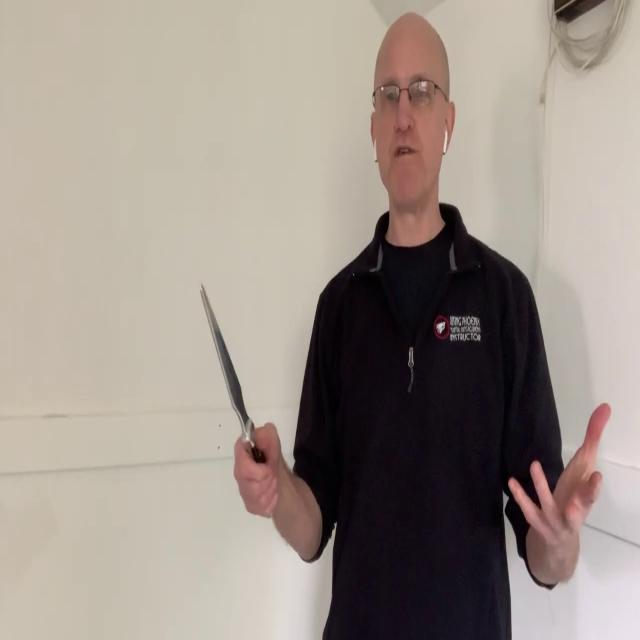Knife_Handle: (200, 283, 281, 519)
